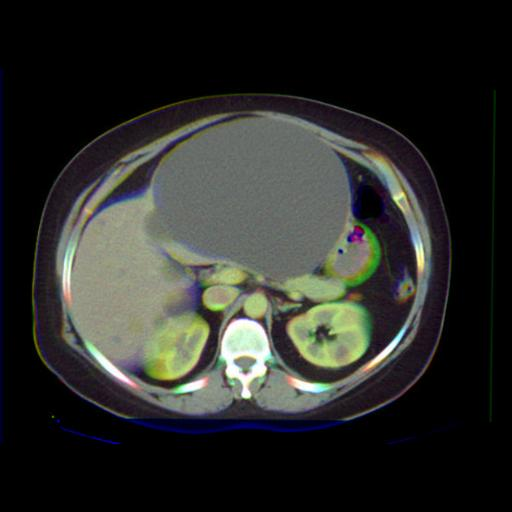Cyst: (146, 118, 350, 280)
